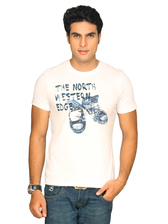clothoes: (32, 63, 140, 195), (25, 183, 46, 195)
